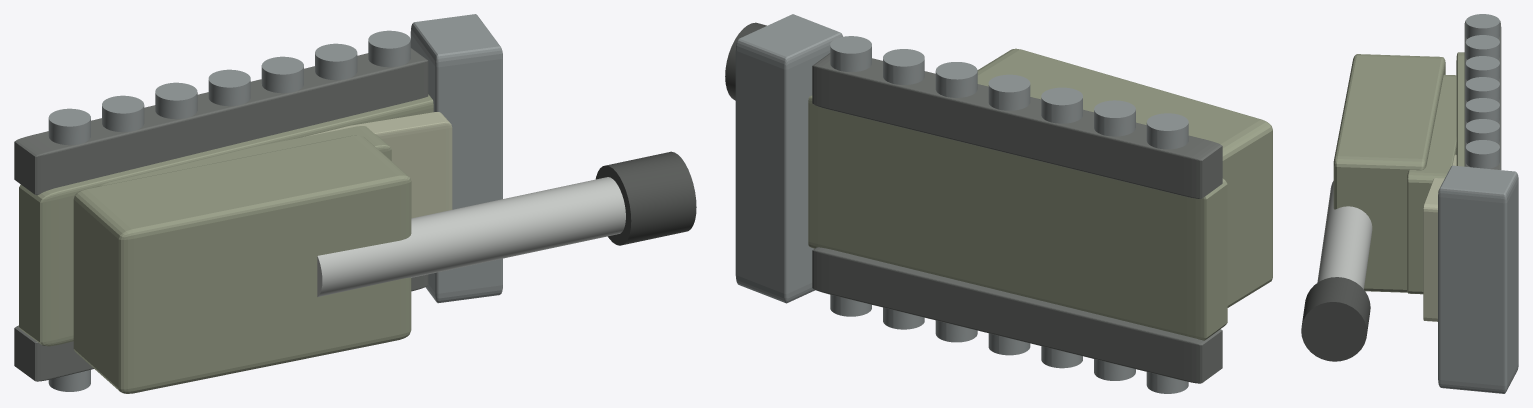
File: v-u19-vanguard-siege-tank-lod1.glb
3 views of the same model, side by side, from view 1: azimuth 30°, elevation 25°; view 2: azimuth 150°, elevation 25°; view 3: azimuth 270°, elevation 25° (orthographic). The views are drawn at different scales.
Visible parts, largest first — view 1: siege_casemate, chassis_track_1, siege_cannon_barrel_0, siege_dozer, chassis_lower, siege_cannon_muzzle_0, chassis_glacis, chassis_track_-1, upper_hull, chassis_roadwheel_1_1, chassis_roadwheel_1_5, chassis_roadwheel_1_6 (+5 smaller); view 2: chassis_lower, siege_dozer, chassis_track_1, chassis_track_-1, siege_casemate, chassis_roadwheel_1_3, chassis_roadwheel_1_0, chassis_roadwheel_1_4, chassis_roadwheel_1_2, chassis_roadwheel_1_1, chassis_roadwheel_1_6, chassis_roadwheel_1_5 (+8 smaller); view 3: siege_dozer, siege_casemate, siege_cannon_muzzle_0, upper_hull, siege_cannon_barrel_0, chassis_glacis, chassis_lower, chassis_roadwheel_1_6, chassis_roadwheel_1_0, chassis_roadwheel_1_2, chassis_roadwheel_1_3, chassis_roadwheel_1_4 (+3 smaller).
Part boxes in pixels (x1,y1,x2,y2): siege_casemate: [73, 135, 411, 393]; chassis_track_1: [14, 48, 428, 195]; siege_cannon_barrel_0: [317, 177, 625, 296]; siege_dozer: [410, 14, 502, 303]; chassis_lower: [19, 94, 433, 346]; siege_cannon_muzzle_0: [595, 151, 696, 245]; chassis_glacis: [304, 112, 452, 218]; chassis_track_-1: [14, 274, 428, 381]; upper_hull: [101, 126, 391, 185]; chassis_roadwheel_1_1: [102, 95, 144, 132]; chassis_roadwheel_1_5: [315, 43, 357, 80]; chassis_roadwheel_1_6: [368, 30, 410, 67]; chassis_lower: [808, 95, 1227, 340]; siege_dozer: [735, 14, 842, 303]; chassis_track_1: [812, 53, 1222, 198]; chassis_track_-1: [812, 247, 1222, 383]; siege_casemate: [977, 48, 1272, 307]; chassis_roadwheel_1_3: [988, 74, 1030, 110]; chassis_roadwheel_1_0: [1146, 113, 1188, 149]; chassis_roadwheel_1_4: [935, 62, 977, 97]; chassis_roadwheel_1_2: [1041, 87, 1082, 123]; chassis_roadwheel_1_1: [1094, 100, 1135, 136]; chassis_roadwheel_1_6: [830, 36, 871, 72]; chassis_roadwheel_1_5: [883, 49, 924, 84]; siege_dozer: [1438, 165, 1518, 393]; siege_casemate: [1333, 54, 1445, 292]; siege_cannon_muzzle_0: [1301, 277, 1370, 361]; upper_hull: [1407, 74, 1456, 294]; siege_cannon_barrel_0: [1317, 181, 1372, 289]; chassis_glacis: [1423, 154, 1456, 321]; chassis_lower: [1456, 52, 1464, 166]; chassis_roadwheel_1_6: [1465, 140, 1499, 168]; chassis_roadwheel_1_0: [1465, 14, 1499, 38]; chassis_roadwheel_1_2: [1465, 56, 1499, 80]; chassis_roadwheel_1_3: [1465, 77, 1499, 101]; chassis_roadwheel_1_4: [1465, 98, 1499, 122].
Size of what is drawn, in the model's own units: 11.24 by 5.06 by 4.66.
